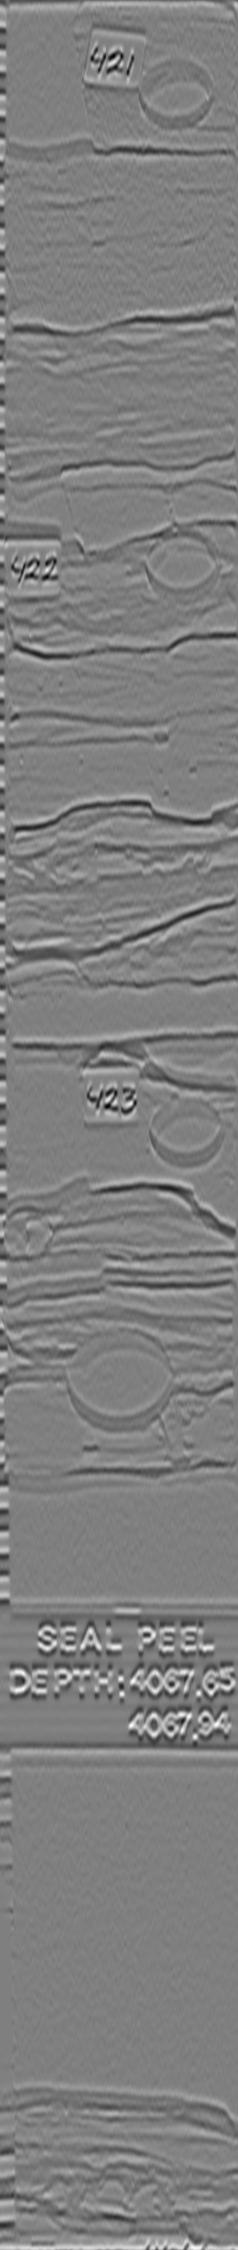hplug: (143, 527, 224, 611), (129, 56, 219, 131), (145, 1093, 227, 1168)
scal: (59, 1319, 181, 1434)
vplug: (9, 1026, 99, 1217), (10, 3, 103, 168), (9, 461, 83, 575)
